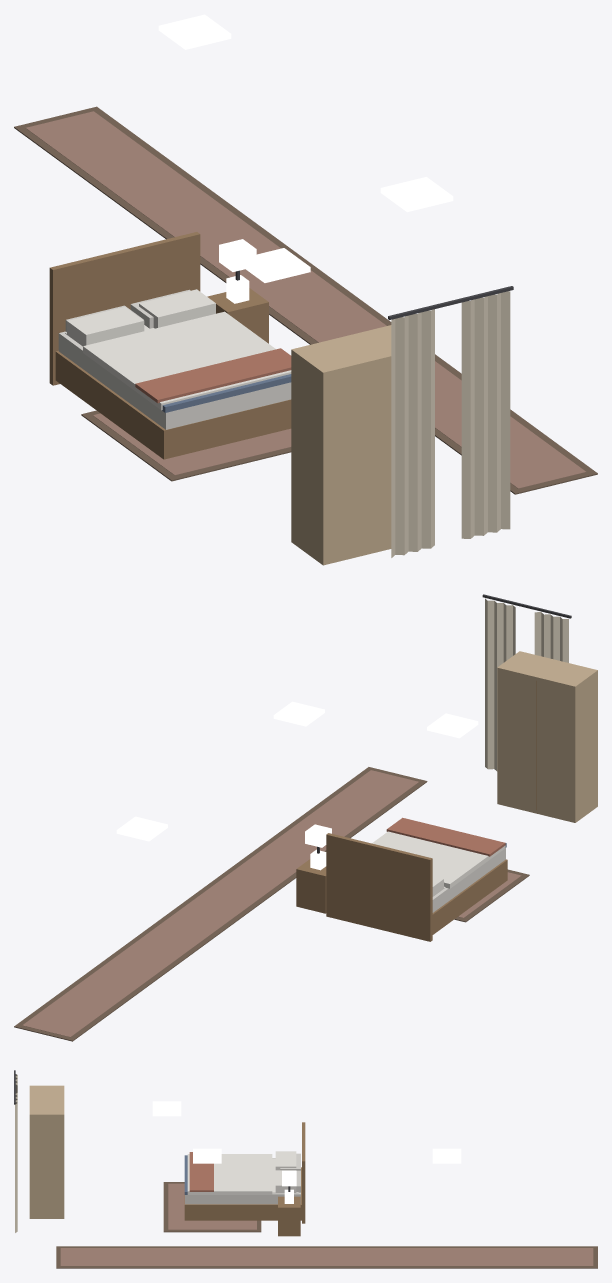
Rendered from fine-s1.glb.
3 renders of one model, top to bottom at view 1: azimuth 30°, elevation 25°; view 2: azimuth 150°, elevation 25°; view 3: azimuth 270°, elevation 25°, orthographic. The views are drawn at different scales.
Visible parts, largest first — view 1: soft-s1, dresser.000, bed-frame.000, nightstand.000, ceiling-lamp.003, ceiling-lamp.002, ceiling-lamp.004; view 2: soft-s1, dresser.000, bed-frame.000, nightstand.000, ceiling-lamp.002, ceiling-lamp.003, ceiling-lamp.004; view 3: soft-s1, dresser.000, bed-frame.000, nightstand.000, ceiling-lamp.002, ceiling-lamp.004, ceiling-lamp.003.
Part boxes in pixels (box(x1,y1,x2,y2)): soft-s1: box(14, 106, 597, 557); dresser.000: box(291, 325, 391, 565); bed-frame.000: box(49, 232, 291, 459); nightstand.000: box(207, 275, 268, 343); ceiling-lamp.003: box(380, 177, 453, 212); ceiling-lamp.002: box(158, 14, 231, 49); ceiling-lamp.004: box(238, 248, 310, 282); soft-s1: box(14, 594, 571, 1041); dresser.000: box(497, 651, 597, 822); bed-frame.000: box(326, 833, 507, 941); nightstand.000: box(296, 849, 326, 913); ceiling-lamp.002: box(116, 816, 167, 841); ceiling-lamp.003: box(273, 701, 324, 726); ceiling-lamp.004: box(427, 713, 478, 738); soft-s1: box(14, 1070, 597, 1268); dresser.000: box(29, 1085, 64, 1218); bed-frame.000: box(184, 1122, 305, 1223); nightstand.000: box(278, 1189, 300, 1236); ceiling-lamp.002: box(432, 1148, 461, 1163); ceiling-lamp.004: box(152, 1101, 181, 1116); ceiling-lamp.003: box(193, 1148, 221, 1163).
Size of the model in its own units: 3.55 by 2.56 by 10.16.
